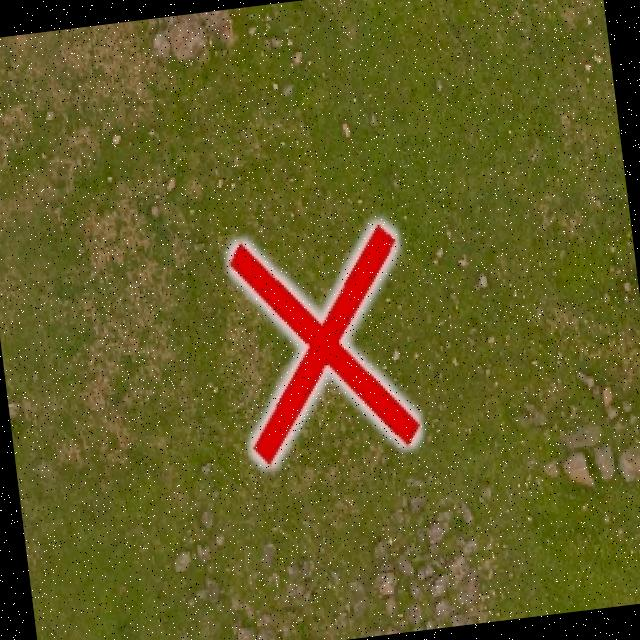x_marker: (226, 221, 418, 464)
